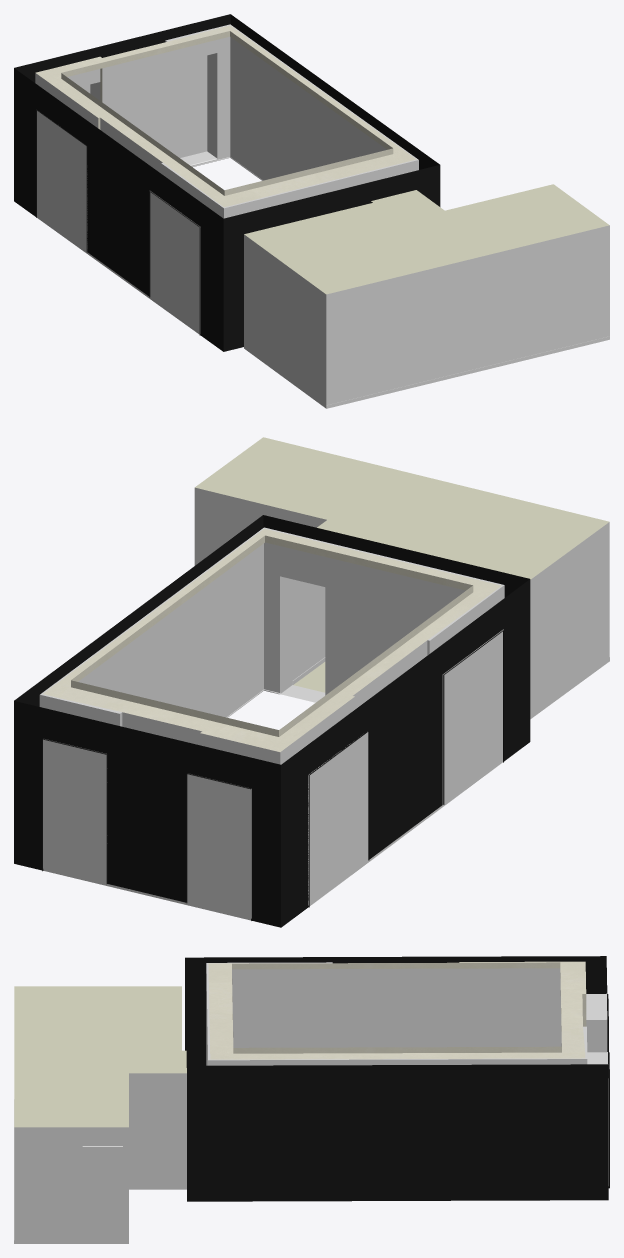
The model's file is Sala_corredor.fbx.
3 renders of one model, top to bottom at view 1: azimuth 30°, elevation 25°; view 2: azimuth 150°, elevation 25°; view 3: azimuth 270°, elevation 25°, orthographic. The views are drawn at different scales.
Visible parts, largest first — view 1: Main Room, Inside Walls.001, Outside Walls.001, Main Room.001, Windows.001, Floor thing; view 2: Outside Walls.001, Inside Walls.001, Windows.001, Main Room.001, Main Room; view 3: Outside Walls.001, Inside Walls.001, Main Room.001, Main Room, Windows.001, Door.
Boxes of the visible parts, <box> form: Main Room: <box>244,225,609,408</box>; Inside Walls.001: <box>35,24,418,334</box>; Outside Walls.001: <box>14,14,440,351</box>; Main Room.001: <box>244,184,609,294</box>; Windows.001: <box>37,55,207,332</box>; Floor thing: <box>244,336,609,408</box>; Outside Walls.001: <box>14,515,530,927</box>; Inside Walls.001: <box>39,527,504,920</box>; Windows.001: <box>43,631,502,918</box>; Main Room.001: <box>195,437,609,579</box>; Main Room: <box>194,487,609,718</box>; Outside Walls.001: <box>185,956,609,1201</box>; Inside Walls.001: <box>206,961,607,1065</box>; Main Room.001: <box>14,986,186,1127</box>; Main Room: <box>14,1073,186,1243</box>; Windows.001: <box>232,987,608,1185</box>; Door: <box>82,1146,122,1240</box>.
Bounding box in the file's own units: 966 × 417 × 1590.
